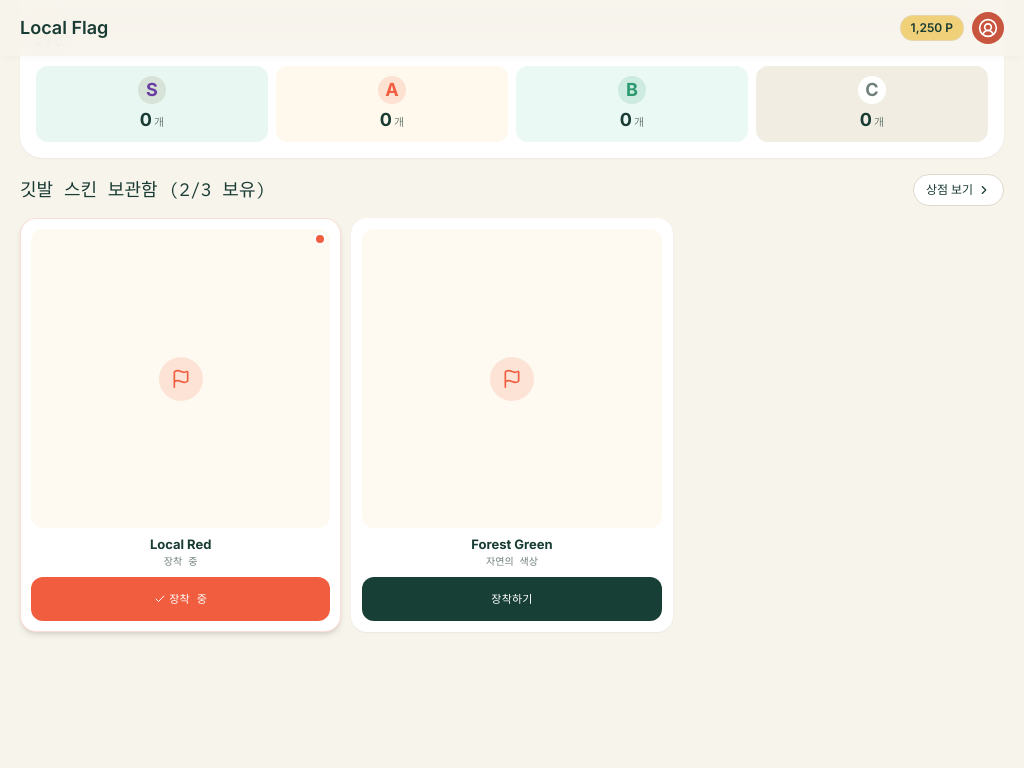
Test: MyFlagPage collection dashboard › handles equipping an owned skin
(page scrolled)
Click the button with aria-label "Forest Green 장착하기". click: coordinates (512, 599)
box: 362,577 -> 662,621
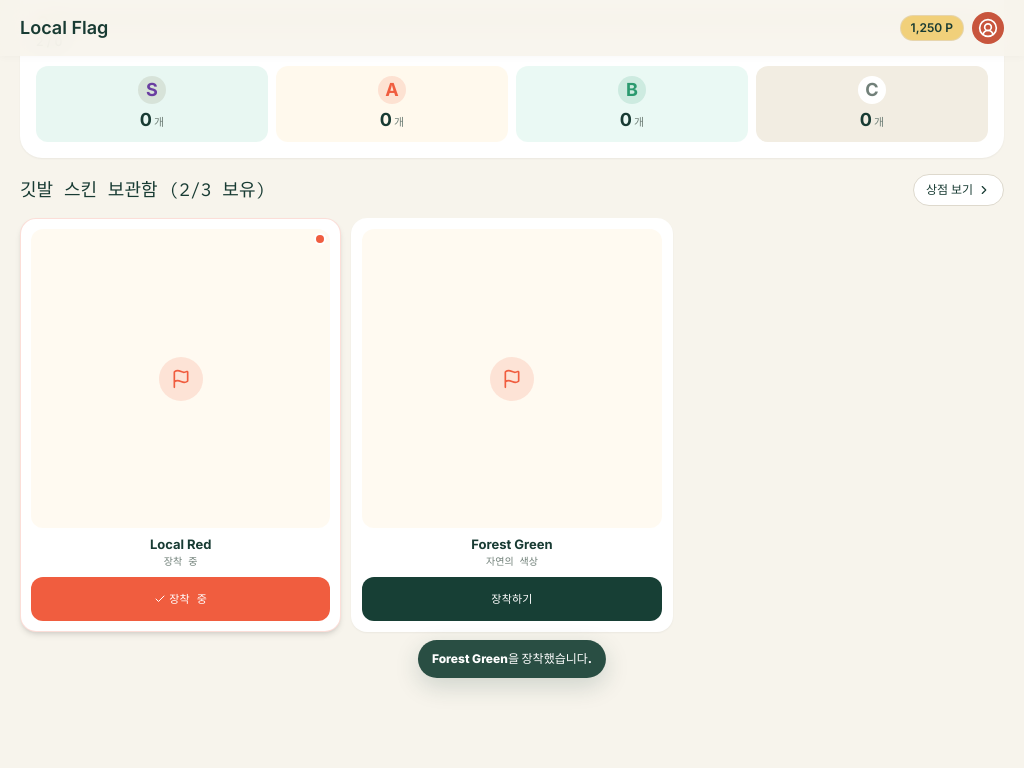
Expected: the text "Forest Green을 장착했습니다." is shown, 418,640 -> 606,678
